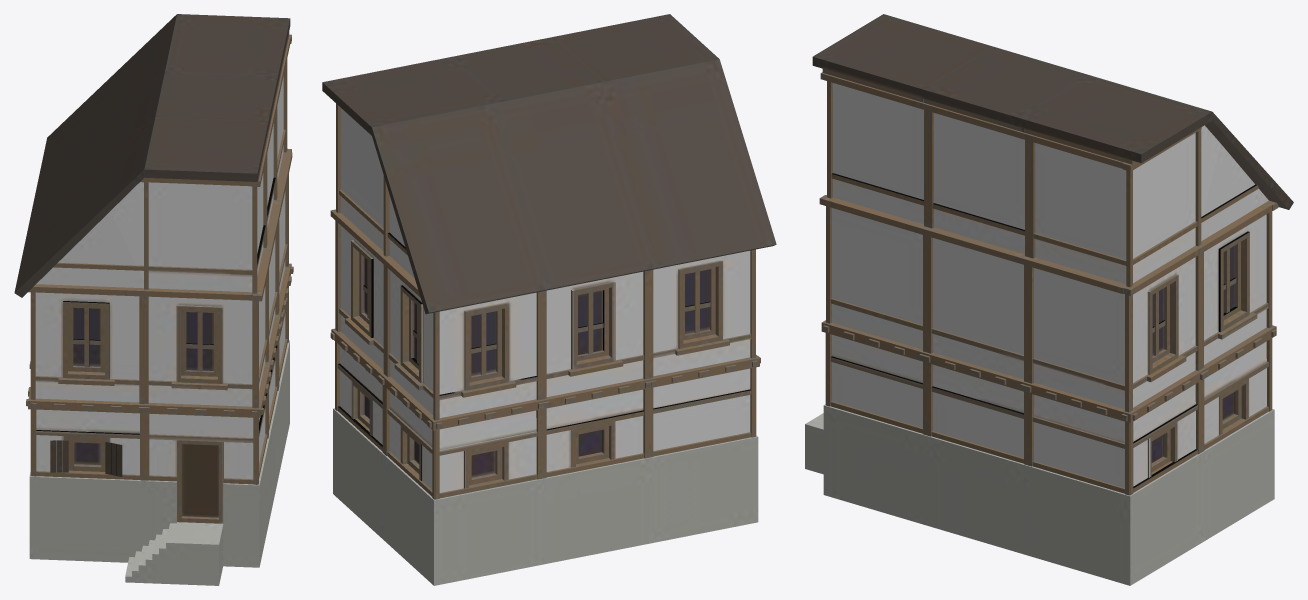
The model's file is city2.fbx.
The picture shows the model from 3 angles, left to right: view 1: azimuth 30°, elevation 25°; view 2: azimuth 150°, elevation 25°; view 3: azimuth 270°, elevation 25°; orthographic projection. The views are drawn at different scales.
Visible parts, largest first — view 1: city2_Baked; view 2: city2_Baked; view 3: city2_Baked.
Boxes of the visible parts, left/top/right/bottom form: city2_Baked: left=14, top=14, right=293, bottom=585; city2_Baked: left=322, top=14, right=776, bottom=585; city2_Baked: left=805, top=14, right=1293, bottom=585.
Size of the model in its own units: 907 by 970 by 990.
Materials: 1 (1 with a texture image).
